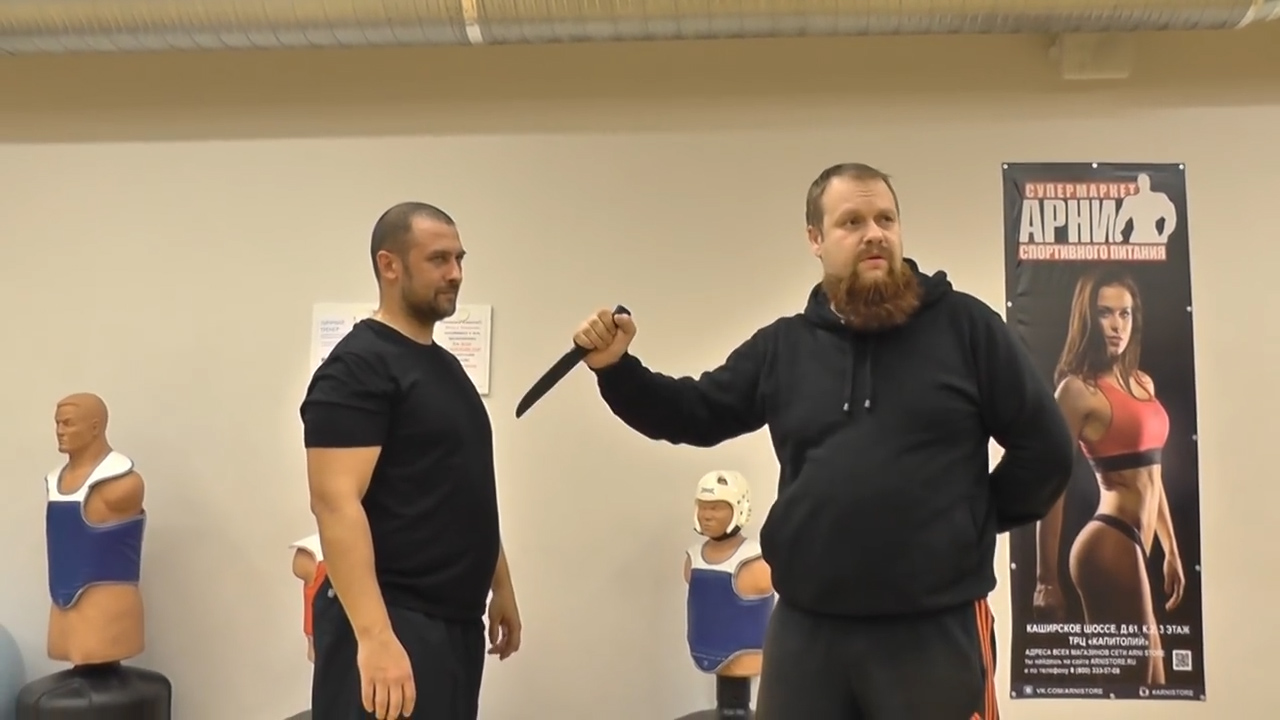knife: (511, 302, 640, 424)
